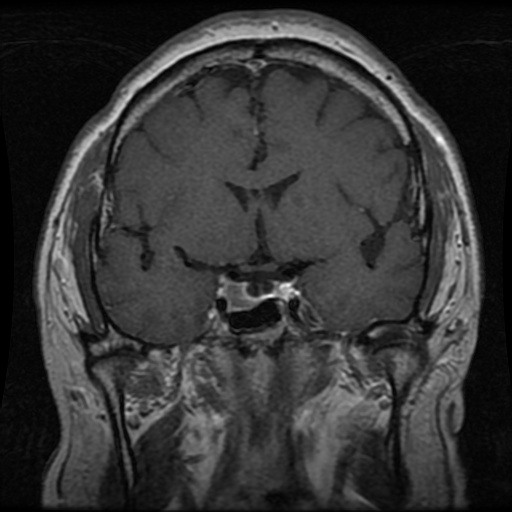pituitary: (218, 281, 256, 309)
